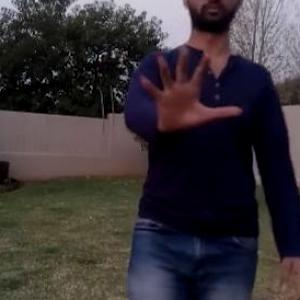follow_hand: (128, 38, 246, 138)
